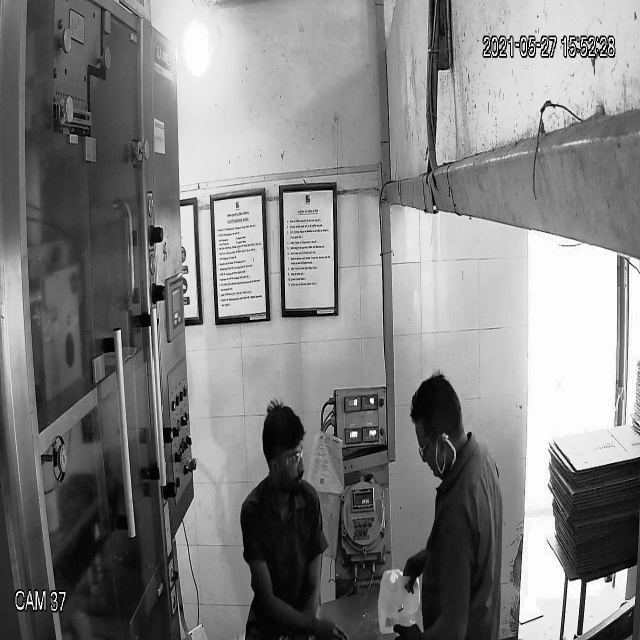Gafas: (266, 444, 310, 475)
